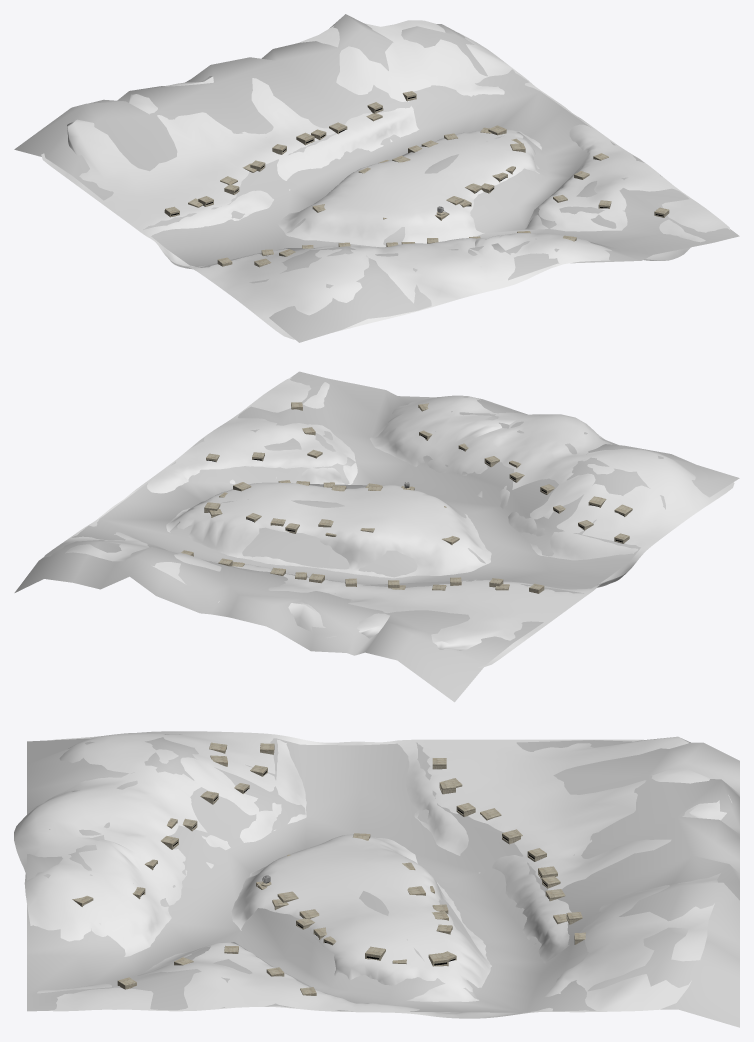
The model's file is EnvironmentCompleteWBunker.fbx.
3 views of the same model, one above another, from view 1: azimuth 30°, elevation 25°; view 2: azimuth 150°, elevation 25°; view 3: azimuth 270°, elevation 25° (orthographic). The views are drawn at different scales.
Visible parts, largest first — view 1: Plane, Plane.001; view 2: Plane, Plane.001; view 3: Plane, Plane.001.
Boxes of the visible parts, left/top/right/bottom form: Plane: left=41, top=20, right=730, bottom=339; Plane.001: left=14, top=14, right=739, bottom=342; Plane: left=43, top=377, right=734, bottom=667; Plane.001: left=14, top=371, right=739, bottom=702; Plane: left=14, top=731, right=731, bottom=1018; Plane.001: left=27, top=734, right=739, bottom=1027.
Bounding box in the file's own units: 1217 × 182 × 1351.
